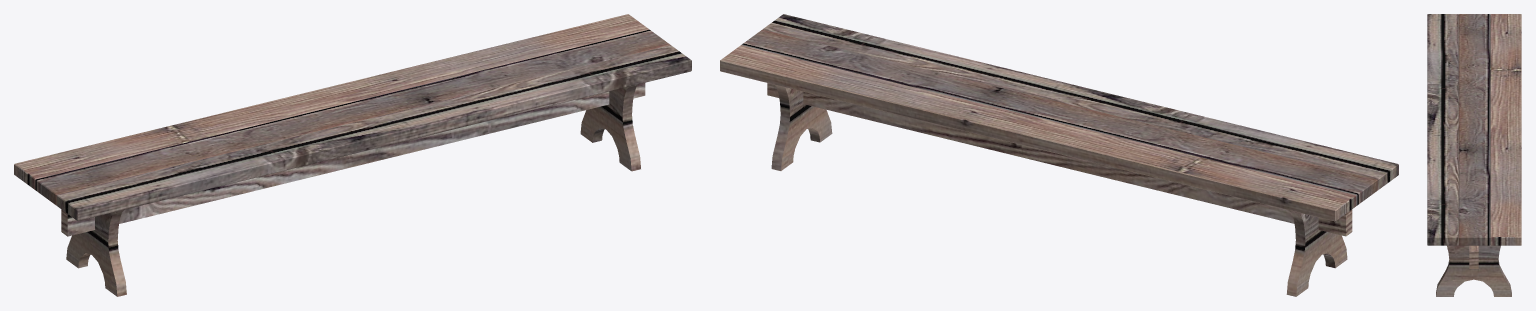
File: bench.obj
The picture shows the model from 3 angles, left to right: view 1: azimuth 30°, elevation 25°; view 2: azimuth 150°, elevation 25°; view 3: azimuth 270°, elevation 25°; orthographic projection. The views are drawn at different scales.
Visible parts, largest first — view 1: bench; view 2: bench; view 3: bench.
Part boxes in pixels (x1,y1,x2,y2): bench: (14, 14, 691, 296); bench: (720, 14, 1398, 296); bench: (1427, 14, 1521, 296).
Size of the model in its own units: 4.44 by 0.7067 by 0.7948.
1 material, 1 textured.
